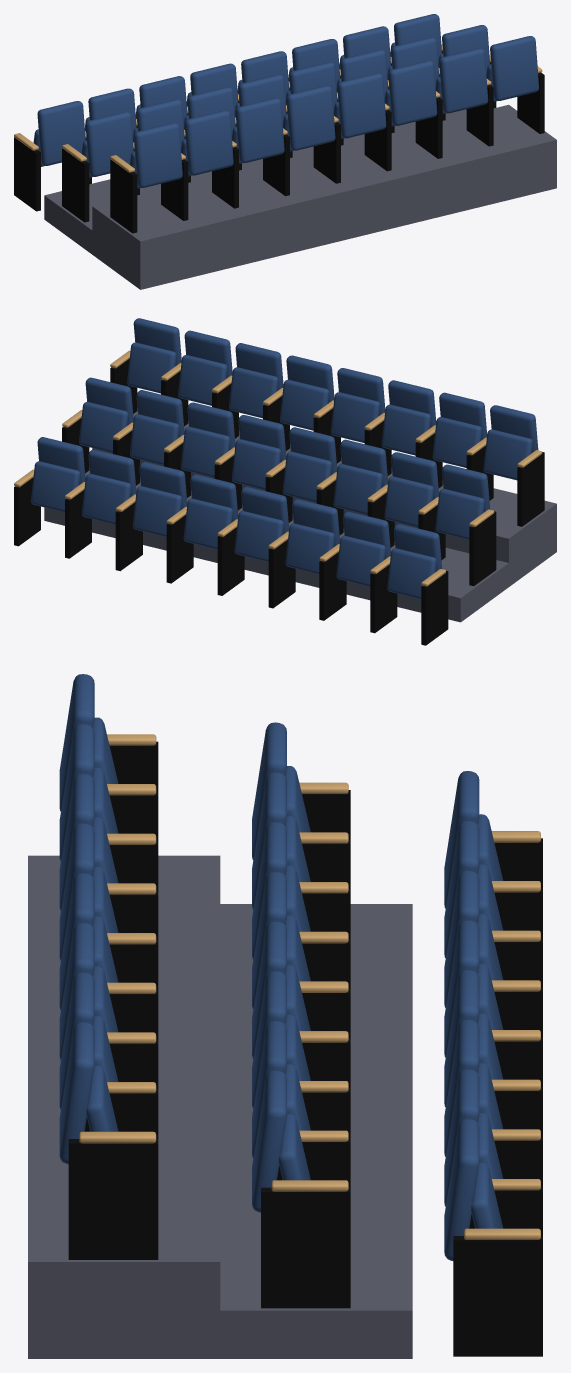
File: office.council.gallery_seats.glb
3 views of the same model, one above another, from view 1: azimuth 30°, elevation 25°; view 2: azimuth 150°, elevation 25°; view 3: azimuth 270°, elevation 25° (orthographic). The views are drawn at different scales.
Visible parts, largest first — view 1: main__fabric_blue, main__carpet, main__plastic_black, main__glulam; view 2: main__fabric_blue, main__plastic_black, main__carpet, main__glulam; view 3: main__carpet, main__plastic_black, main__fabric_blue, main__glulam.
Part boxes in pixels (x1,y1,x2,y2): main__fabric_blue: (33,14,539,188); main__carpet: (44,104,556,289); main__plastic_black: (14,51,544,233); main__glulam: (14,44,542,172); main__fabric_blue: (31,318,538,599); main__plastic_black: (14,359,544,645); main__carpet: (44,408,556,622); main__glulam: (14,350,542,586); main__carpet: (28,855,412,1358); main__plastic_black: (68,741,542,1356); main__fabric_blue: (59,674,503,1260); main__glulam: (79,734,540,1239).
Bounding box in the file's own units: 4.5 × 1.49 × 2.41.
